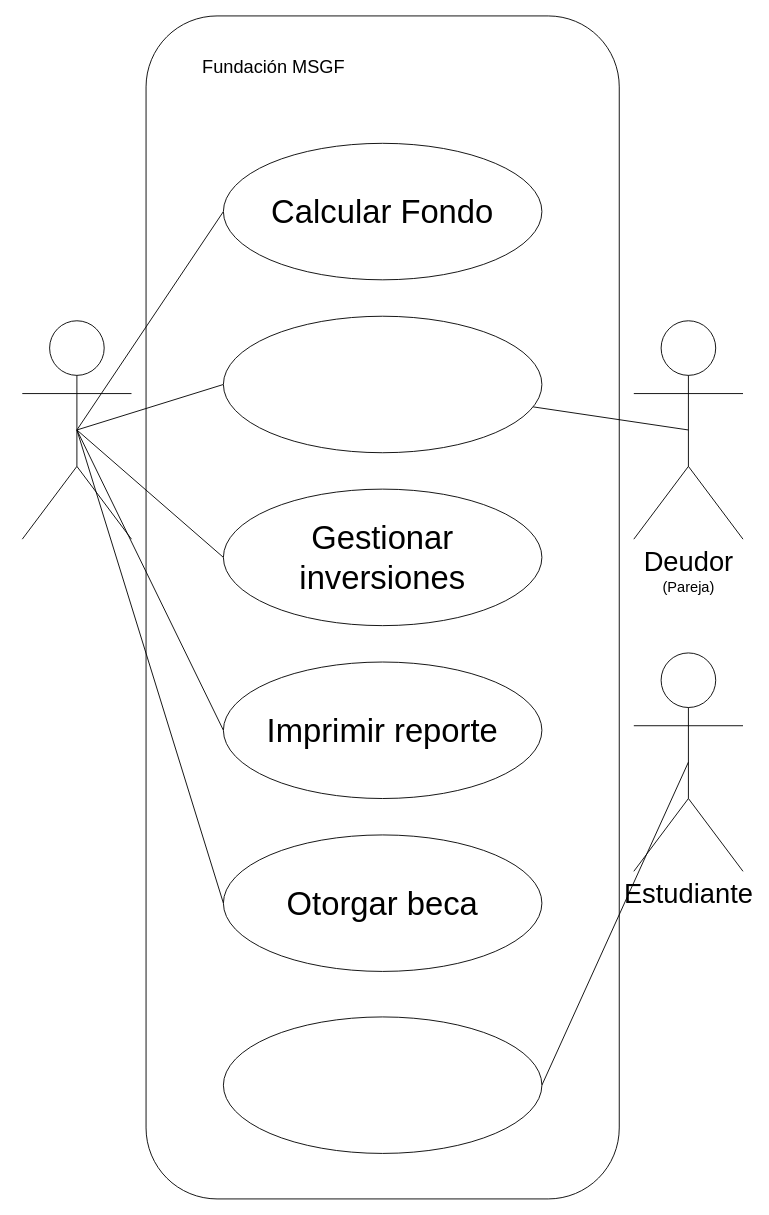
Some shapes in this 769 by 1215 pixel diagram are drawn without their labels. Each missing label, with the box of its shape:
Empleado MSGF: (21, 320, 131, 539)
Gestionar hipoteca: (222, 315, 542, 453)
Recibir beca: (222, 1016, 542, 1153)
